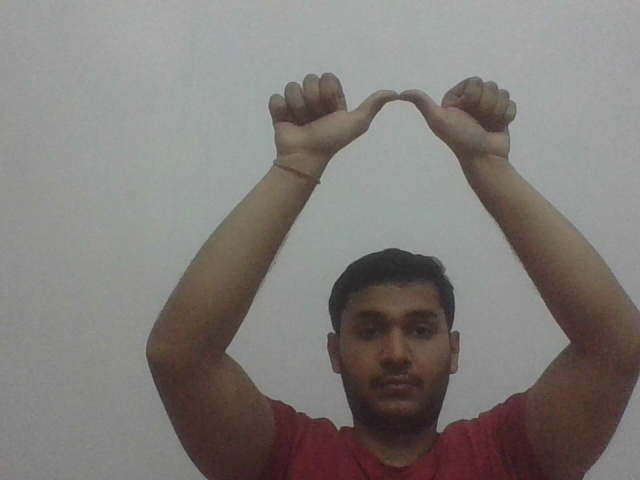A: (265, 70, 520, 160)
